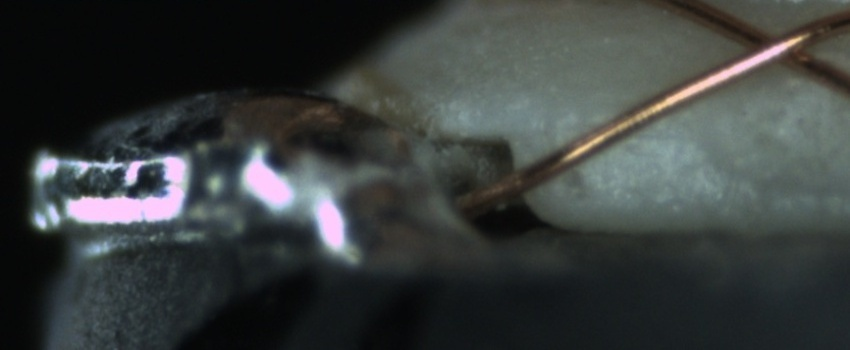CL: (722, 13, 832, 78)
DL: (533, 100, 687, 159)
